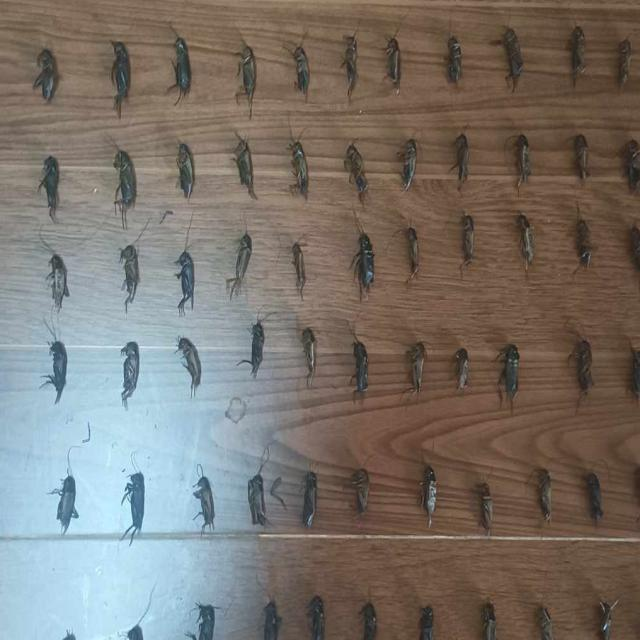no_egg: (113, 149, 135, 227), (226, 231, 252, 296), (110, 40, 132, 115), (52, 468, 77, 534), (351, 230, 375, 297), (32, 46, 60, 102), (122, 470, 145, 538), (177, 338, 201, 397), (501, 27, 522, 92), (120, 341, 140, 407), (46, 254, 69, 311), (120, 244, 139, 312), (234, 136, 255, 197), (175, 247, 194, 314), (571, 338, 593, 395), (40, 155, 59, 220), (193, 472, 215, 528), (345, 143, 367, 197), (237, 42, 256, 102), (173, 34, 191, 97), (49, 339, 67, 402), (186, 603, 216, 640), (290, 139, 309, 197), (247, 471, 266, 526), (504, 344, 520, 409), (177, 142, 195, 199), (568, 24, 585, 83), (517, 212, 534, 270), (421, 465, 437, 526), (406, 341, 425, 392), (585, 471, 603, 524), (343, 35, 358, 98), (622, 139, 640, 191), (248, 320, 265, 375), (574, 218, 593, 267), (301, 470, 317, 527), (386, 36, 401, 93), (293, 44, 309, 97), (291, 241, 306, 297), (477, 482, 493, 534), (351, 468, 369, 514), (353, 338, 367, 396), (455, 131, 470, 185), (301, 327, 316, 380), (404, 225, 419, 278), (515, 134, 530, 184), (573, 134, 588, 184), (447, 34, 462, 83), (538, 470, 552, 522), (401, 138, 415, 189), (627, 347, 640, 401), (263, 599, 280, 640), (617, 38, 631, 87), (359, 601, 376, 640), (597, 601, 614, 640), (627, 224, 640, 275), (461, 214, 474, 265), (481, 601, 497, 640), (416, 606, 434, 640), (308, 603, 324, 640), (537, 605, 552, 640), (455, 347, 467, 390), (635, 465, 640, 511), (45, 170, 57, 186)
